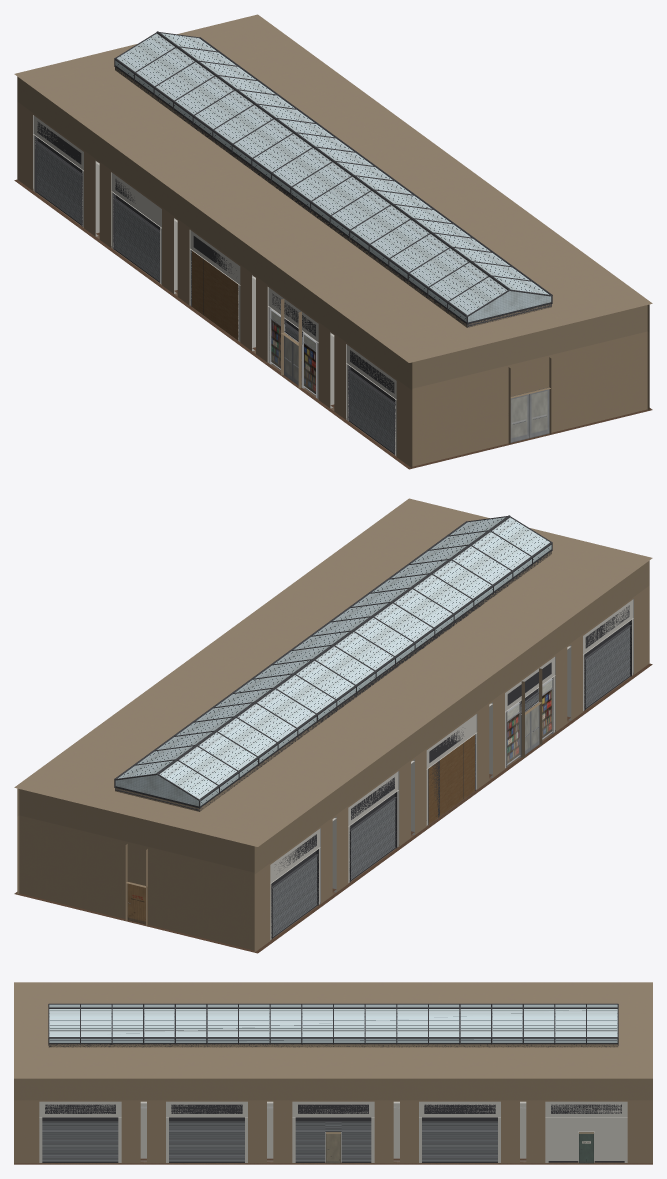
The model's file is wing_books.glb.
The picture shows the model from 3 angles, top to bottom: view 1: azimuth 30°, elevation 25°; view 2: azimuth 150°, elevation 25°; view 3: azimuth 270°, elevation 25°; orthographic projection. The views are drawn at different scales.
Parts seen in each view (by area): view 1: Ceiling_Paint, Skylight_Glass, Wall_Plaster, Wall_Upper, Metal_Dark, Shutter_Metal, Trim_Paint, Hoarding_Ply, Floor_Border, DoorLeaf_entrance_B, Poster_Art, DoorLeaf_entrance_A; view 2: Ceiling_Paint, Skylight_Glass, Wall_Plaster, Wall_Upper, Metal_Dark, Shutter_Metal, Trim_Paint, Hoarding_Ply, Floor_Border, Poster_Art, DoorLeaf_construction; view 3: Ceiling_Paint, Skylight_Glass, Wall_Upper, Wall_Plaster, Shutter_Metal, Metal_Dark, Trim_Paint, Floor_Border, DoorLeaf_scene_2909, DoorLeaf_service_corridor, Decal_Dust.
Boxes of the visible parts, bbox=[...] form: Ceiling_Paint: bbox=[14, 14, 652, 362]; Skylight_Glass: bbox=[115, 33, 551, 322]; Wall_Plaster: bbox=[17, 102, 649, 467]; Wall_Upper: bbox=[17, 76, 649, 389]; Metal_Dark: bbox=[35, 31, 552, 455]; Shutter_Metal: bbox=[36, 141, 394, 452]; Trim_Paint: bbox=[33, 115, 396, 455]; Hoarding_Ply: bbox=[192, 251, 238, 340]; Floor_Border: bbox=[14, 179, 652, 469]; DoorLeaf_entrance_B: bbox=[529, 387, 549, 438]; Poster_Art: bbox=[271, 320, 315, 394]; DoorLeaf_entrance_A: bbox=[510, 392, 529, 442]; Ceiling_Paint: bbox=[14, 498, 652, 846]; Skylight_Glass: bbox=[115, 517, 551, 806]; Wall_Plaster: bbox=[17, 586, 649, 951]; Wall_Upper: bbox=[17, 560, 649, 873]; Metal_Dark: bbox=[114, 515, 631, 939]; Shutter_Metal: bbox=[272, 625, 630, 936]; Trim_Paint: bbox=[270, 599, 633, 939]; Hoarding_Ply: bbox=[428, 735, 474, 824]; Floor_Border: bbox=[14, 663, 652, 953]; Poster_Art: bbox=[507, 689, 552, 763]; DoorLeaf_construction: bbox=[127, 881, 147, 924]; Ceiling_Paint: bbox=[14, 982, 652, 1078]; Skylight_Glass: bbox=[49, 1004, 617, 1042]; Wall_Upper: bbox=[14, 1078, 652, 1100]; Wall_Plaster: bbox=[14, 1100, 652, 1163]; Shutter_Metal: bbox=[42, 1121, 497, 1161]; Metal_Dark: bbox=[42, 1003, 624, 1162]; Trim_Paint: bbox=[39, 1101, 627, 1162]; Floor_Border: bbox=[14, 1158, 652, 1164]; DoorLeaf_scene_2909: bbox=[326, 1132, 340, 1163]; DoorLeaf_service_corridor: bbox=[579, 1132, 593, 1163]; Decal_Dust: bbox=[40, 1161, 623, 1163].
Size of the model in its own units: 14.4 by 7.62 by 40.4.
25 materials, 18 textured.
